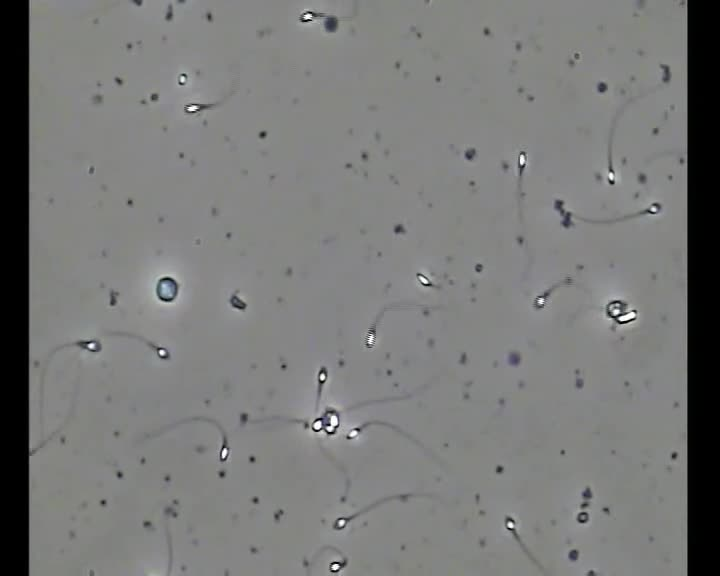spermhead: (156, 276, 178, 302), (322, 408, 339, 434), (605, 300, 626, 319), (614, 310, 637, 324), (77, 339, 101, 352), (229, 292, 246, 310), (299, 10, 323, 22), (323, 15, 338, 32), (329, 558, 346, 572), (533, 292, 547, 308), (416, 272, 432, 286), (365, 328, 376, 348), (163, 504, 177, 518), (561, 211, 573, 227), (184, 103, 203, 113), (155, 346, 169, 359), (333, 517, 348, 529), (219, 443, 229, 461), (504, 516, 516, 531), (311, 417, 323, 432), (646, 202, 661, 214), (317, 366, 327, 383), (346, 427, 360, 439), (553, 199, 565, 213), (518, 151, 526, 171), (576, 511, 588, 523), (177, 72, 187, 85), (607, 168, 615, 184), (239, 412, 248, 426), (562, 276, 574, 285), (474, 262, 483, 273), (302, 420, 310, 429), (425, 0, 432, 5)
